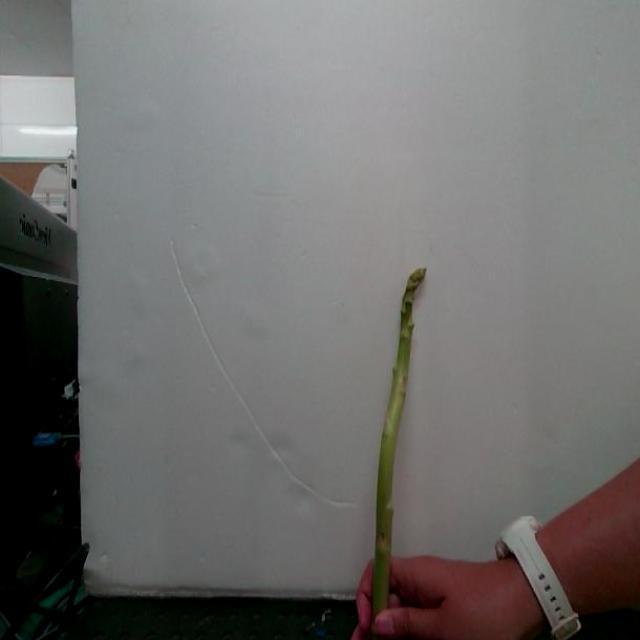aspargus: (362, 270, 427, 640)
